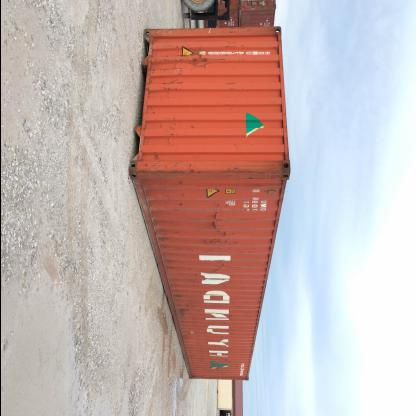Damage: (148, 207, 260, 230), (150, 44, 244, 70), (218, 162, 283, 180), (133, 163, 203, 178), (202, 237, 238, 252), (212, 26, 254, 36), (154, 231, 172, 250), (167, 118, 177, 152), (156, 80, 184, 92), (175, 303, 193, 319), (148, 28, 172, 40), (150, 67, 184, 75), (180, 324, 190, 346), (163, 256, 175, 272), (210, 197, 224, 209), (189, 270, 198, 288), (210, 264, 224, 275), (166, 278, 180, 289), (170, 292, 187, 300), (217, 230, 235, 237), (224, 79, 238, 88), (230, 139, 240, 151), (214, 365, 224, 375), (187, 121, 197, 131), (147, 105, 157, 115), (228, 324, 235, 338), (250, 183, 274, 187), (163, 190, 171, 202), (222, 350, 228, 364), (174, 200, 184, 208), (226, 314, 235, 322), (152, 151, 158, 163), (248, 140, 255, 148), (235, 360, 239, 372), (198, 344, 204, 352), (158, 122, 164, 130), (199, 354, 203, 364), (180, 190, 184, 198), (202, 372, 206, 378)
